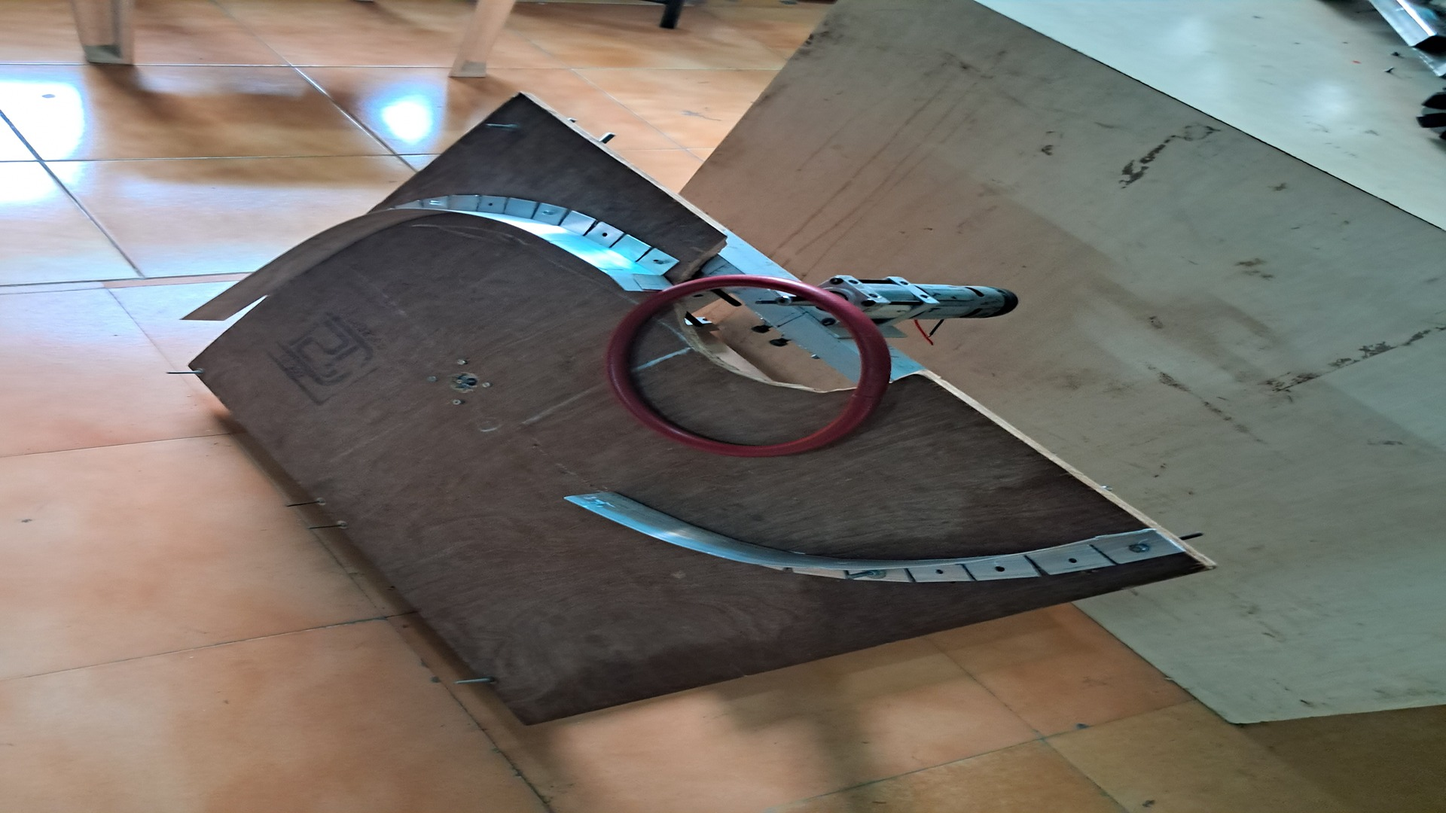Red ring: (605, 278, 887, 452)
